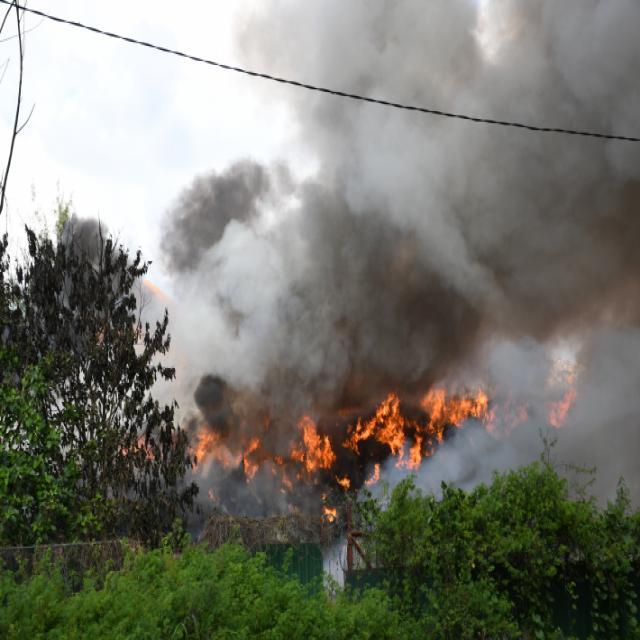Fire: (350, 381, 484, 463), (288, 407, 338, 480)
Smoke: (172, 15, 640, 492), (188, 420, 259, 482)
